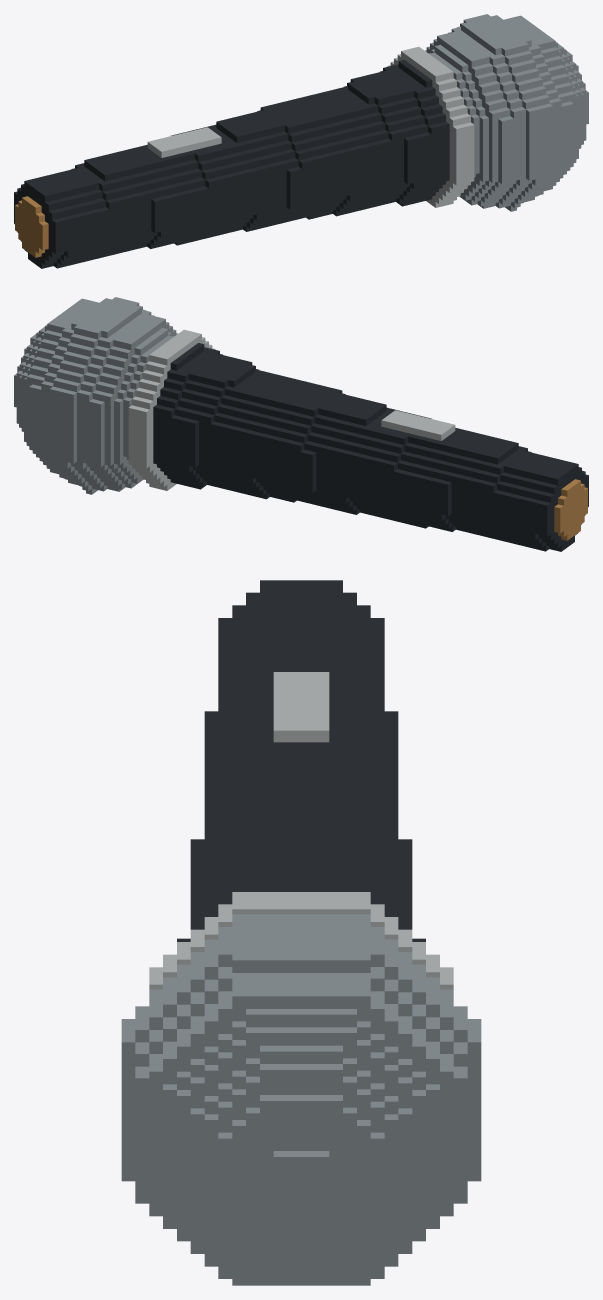
The model's file is xlr_microphone.glb.
3 views of the same model, one above another, from view 1: azimuth 30°, elevation 25°; view 2: azimuth 150°, elevation 25°; view 3: azimuth 270°, elevation 25° (orthographic). The views are drawn at different scales.
Parts seen in each view (by area): view 1: xlr_microphone:compound; view 2: xlr_microphone:compound; view 3: xlr_microphone:compound.
Part boxes in pixels (x1,y1,x2,y2): xlr_microphone:compound: [14, 14, 588, 268]; xlr_microphone:compound: [14, 297, 588, 551]; xlr_microphone:compound: [121, 580, 481, 1285].
Size of the model in its own units: 0.182 by 0.052 by 0.052.
